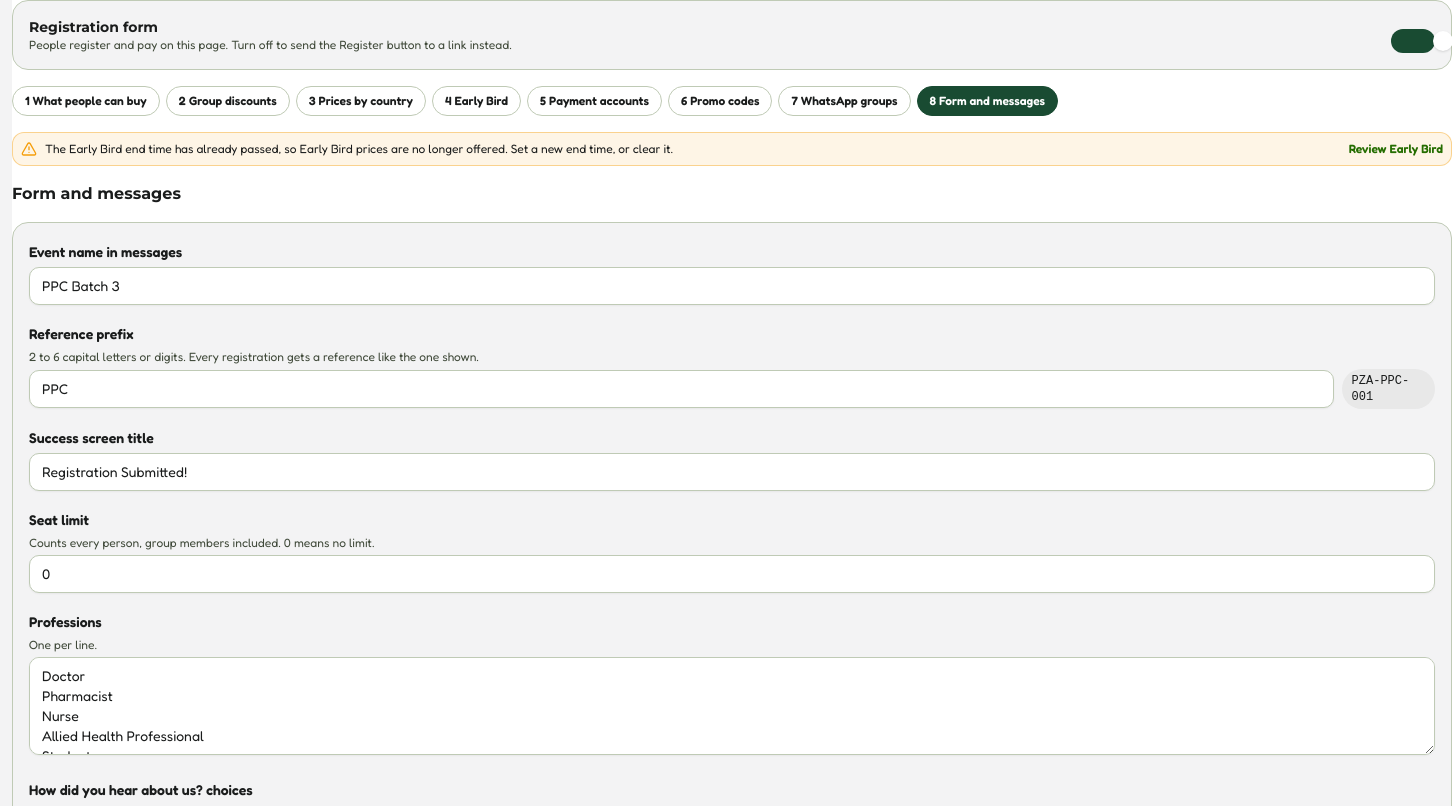
Test: RegistrationSetup › uppercases the reference prefix and previews the reference
Replace the text in the field labelled "Reference prefix" with "mdc": x=681, y=389 [29,370,1334,408]
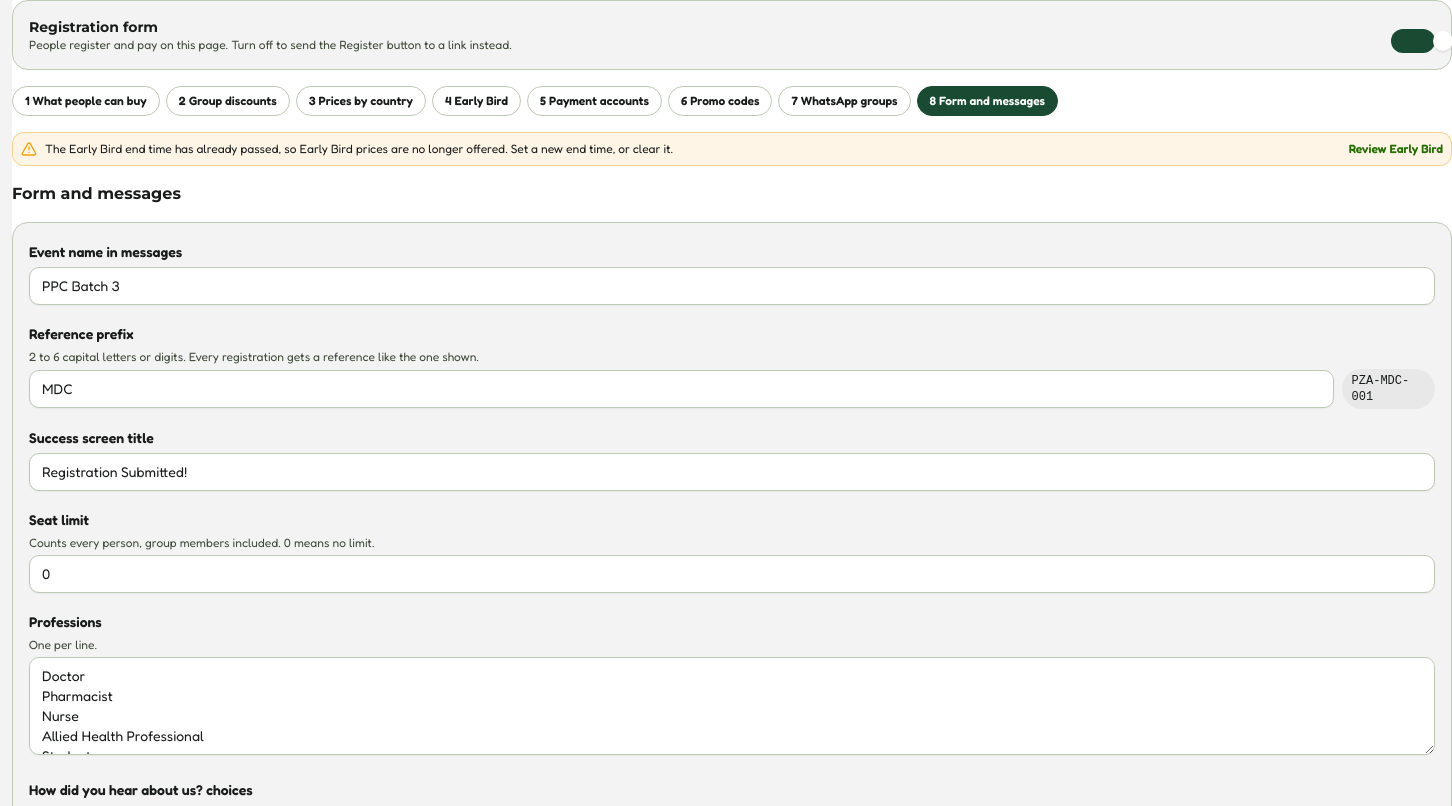
expect the text "PZA-MDC-001" is shown: met, box [1342,369,1435,409]
